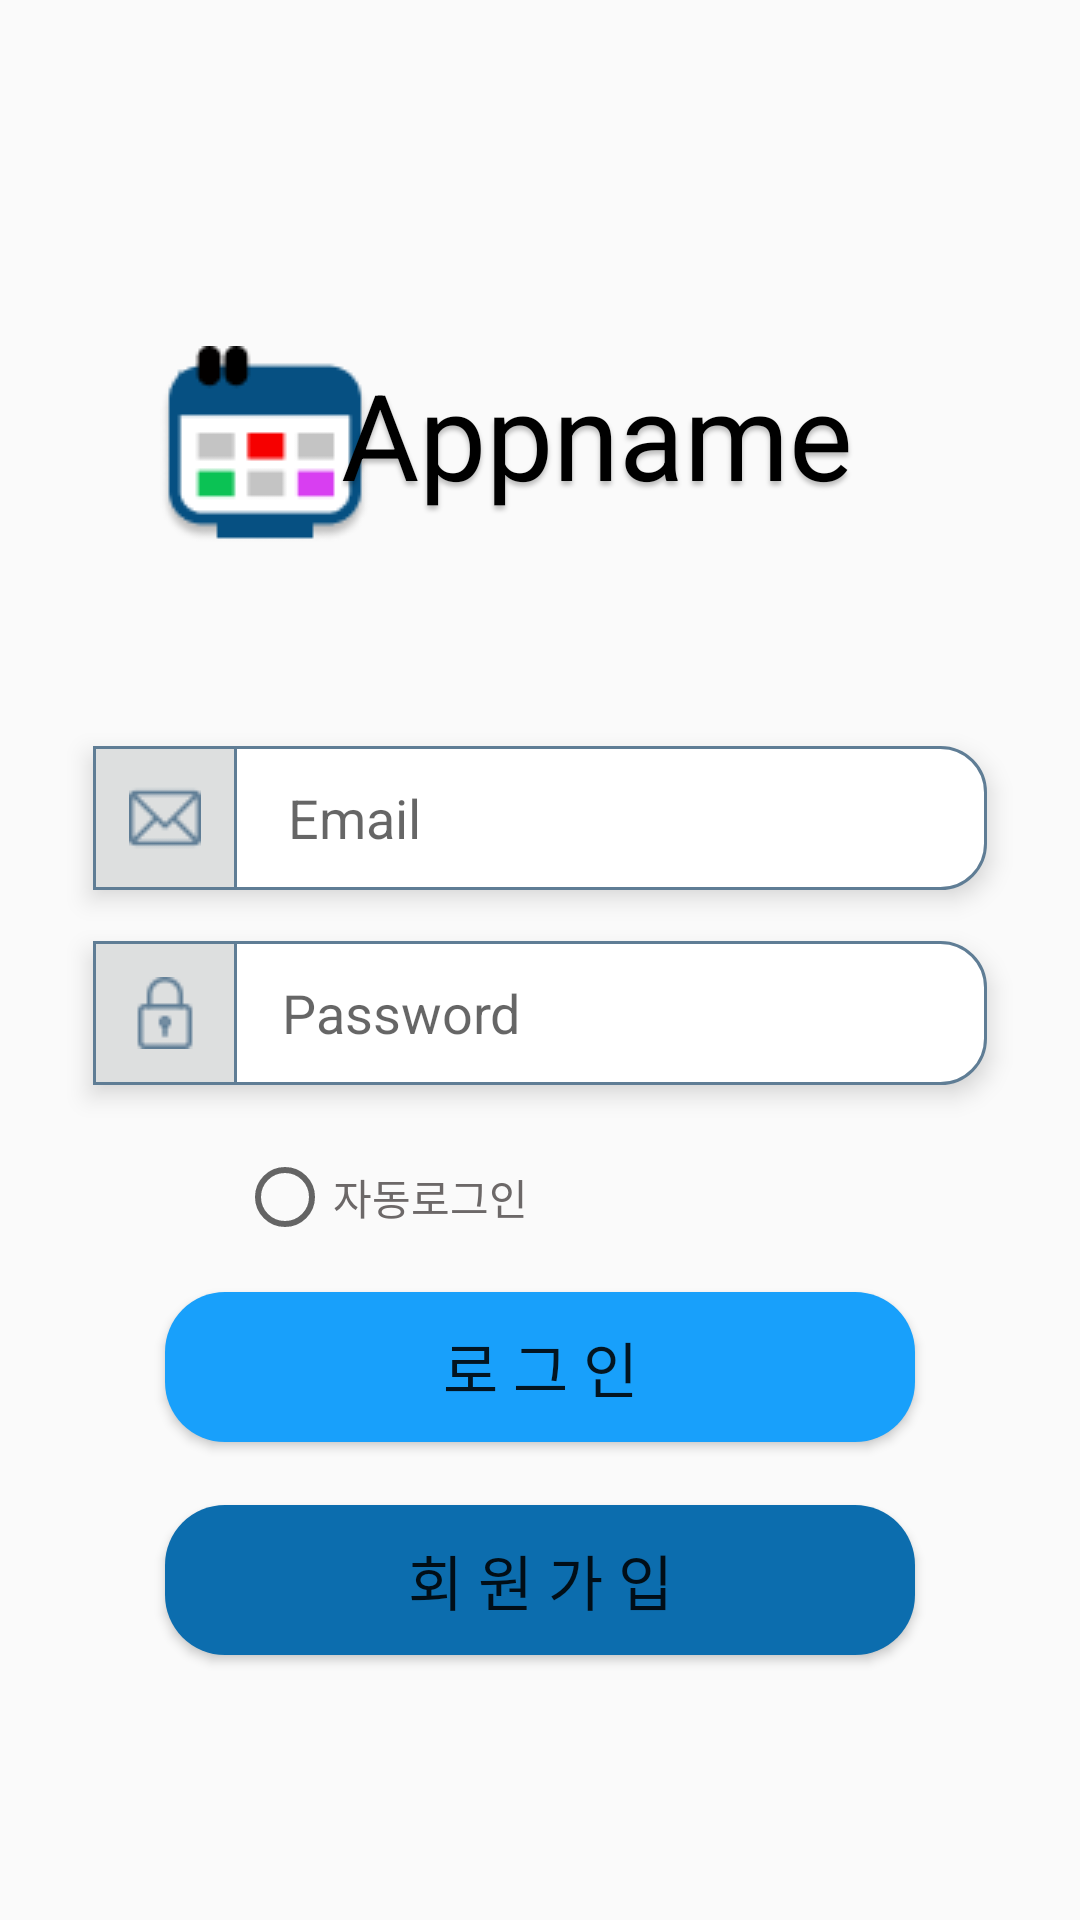

Named icons in this screenshot (1080px x 1920px) and their centers, [x,y]:
appicon: [268,442]
lock: [165,1013]
